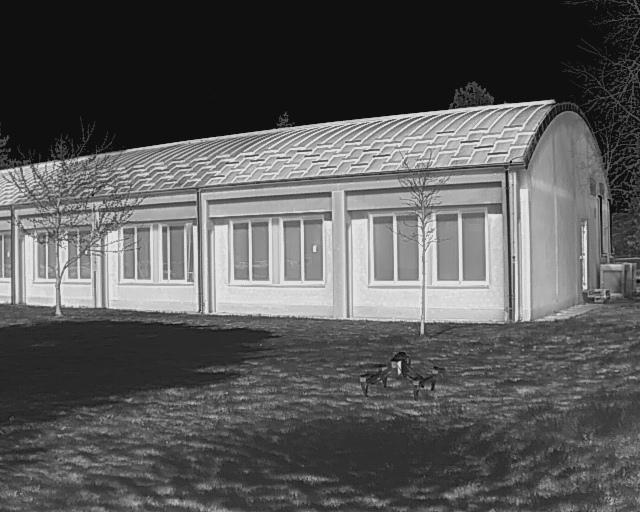drone: (342, 342, 452, 412)
